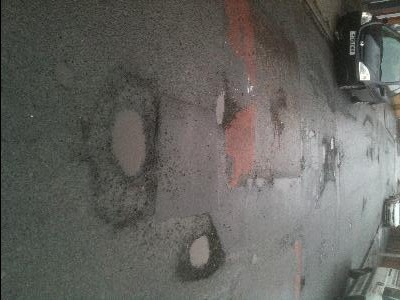pothole: (86, 65, 161, 229), (174, 223, 226, 283), (319, 133, 339, 180), (212, 86, 233, 129)
